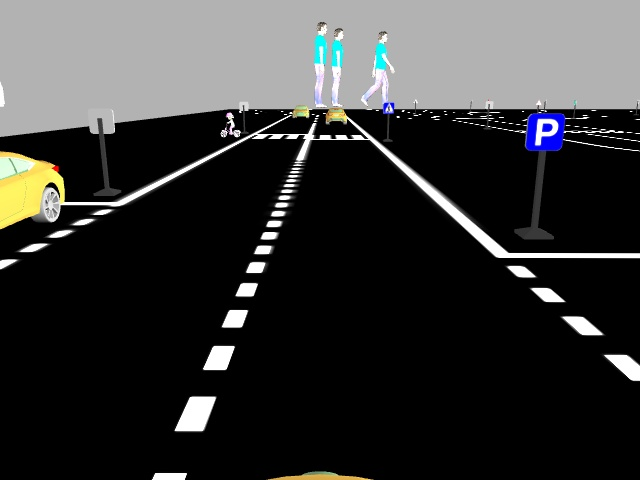Parking: (521, 111, 566, 154)
